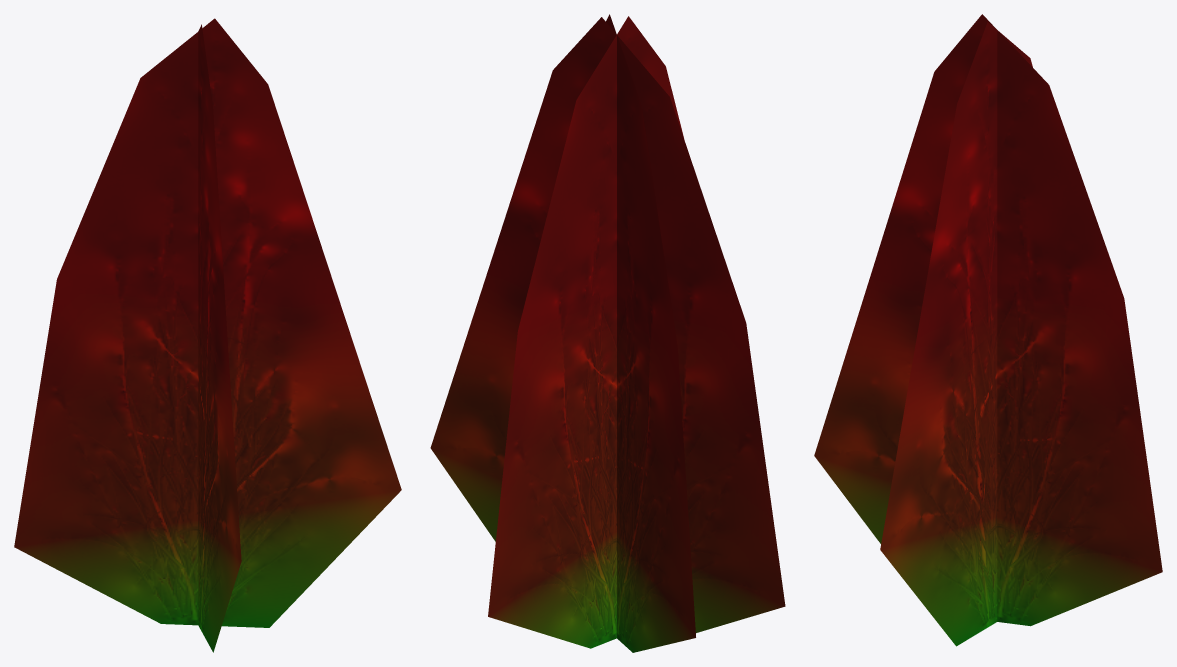
Rendered from grass.gltf.
3 renders of one model, left to right at view 1: azimuth 30°, elevation 25°; view 2: azimuth 150°, elevation 25°; view 3: azimuth 270°, elevation 25°, orthographic.
Visible parts, largest first — view 1: _e828_Var1_LOD4.002; view 2: _e828_Var1_LOD4.002; view 3: _e828_Var1_LOD4.002.
Part boxes in pixels (x1,y1,x2,y2): _e828_Var1_LOD4.002: (14,18,401,652); _e828_Var1_LOD4.002: (430,14,785,652); _e828_Var1_LOD4.002: (814,14,1162,646).
Bounding box in the file's own units: 0.5443 × 0.9079 × 0.4734.
1 material, 1 textured.
